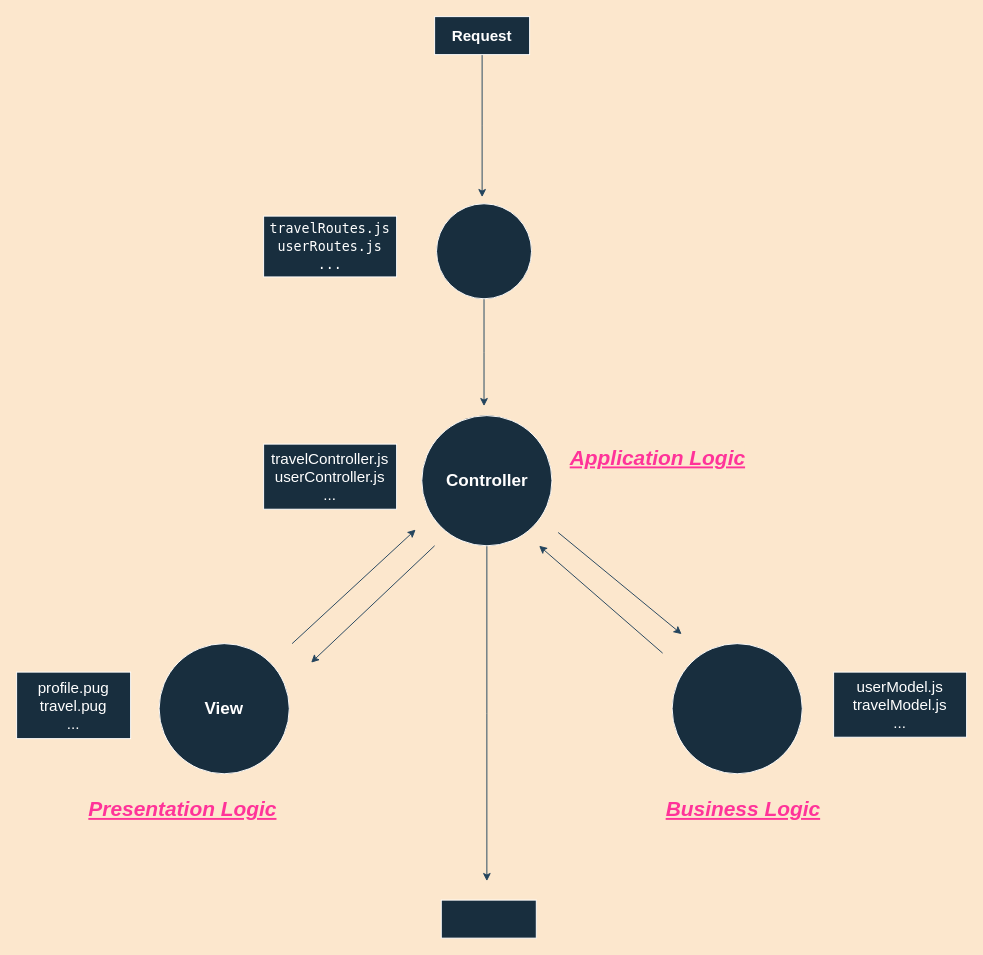
Some shapes in this 983 by 955 pixel diagram are drawn without their labels. Here are the shapes that lost their labels. From the top down, the centre of each, then its label:
(x=484, y=251): Route
(x=736, y=708): Model
(x=488, y=918): Response
